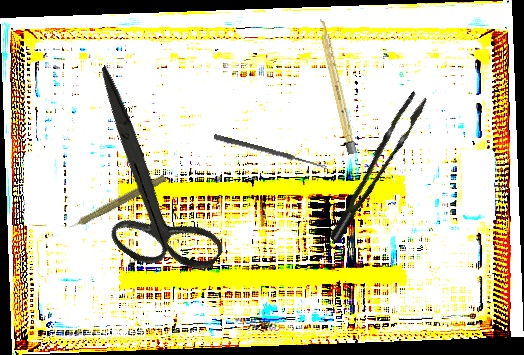Handpiece: (60, 170, 168, 236)
Iris Scissors: (22, 65, 271, 299)
Scalpel Handle: (317, 18, 357, 155)
Surgical Spoon: (213, 133, 328, 171)
Tissue Forceps: (310, 89, 442, 244)
